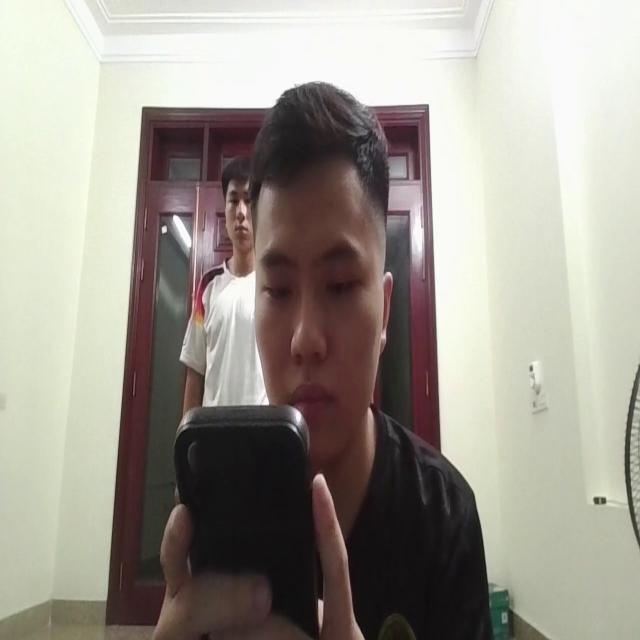extra_person: (175, 149, 259, 389)
phone: (169, 394, 323, 633)
student: (158, 86, 488, 640)
